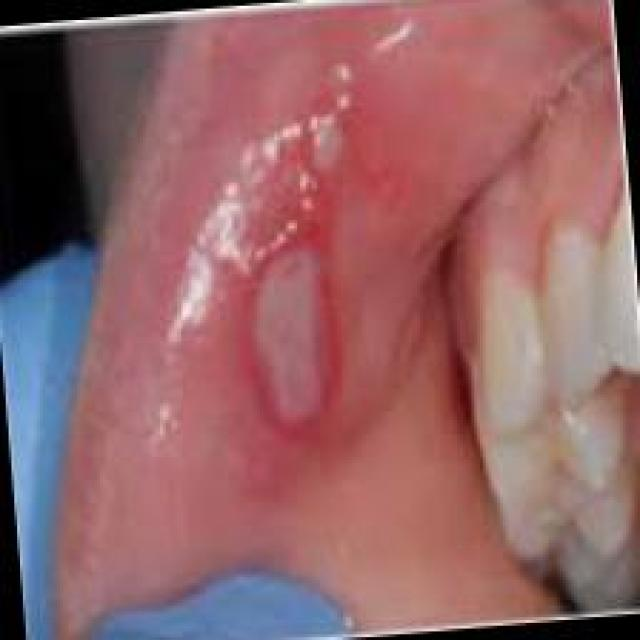processing_area: (60, 0, 624, 628)
ulcer-detection: (226, 40, 401, 449)
